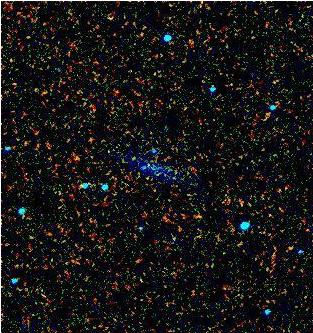star: (76, 126, 106, 156)
